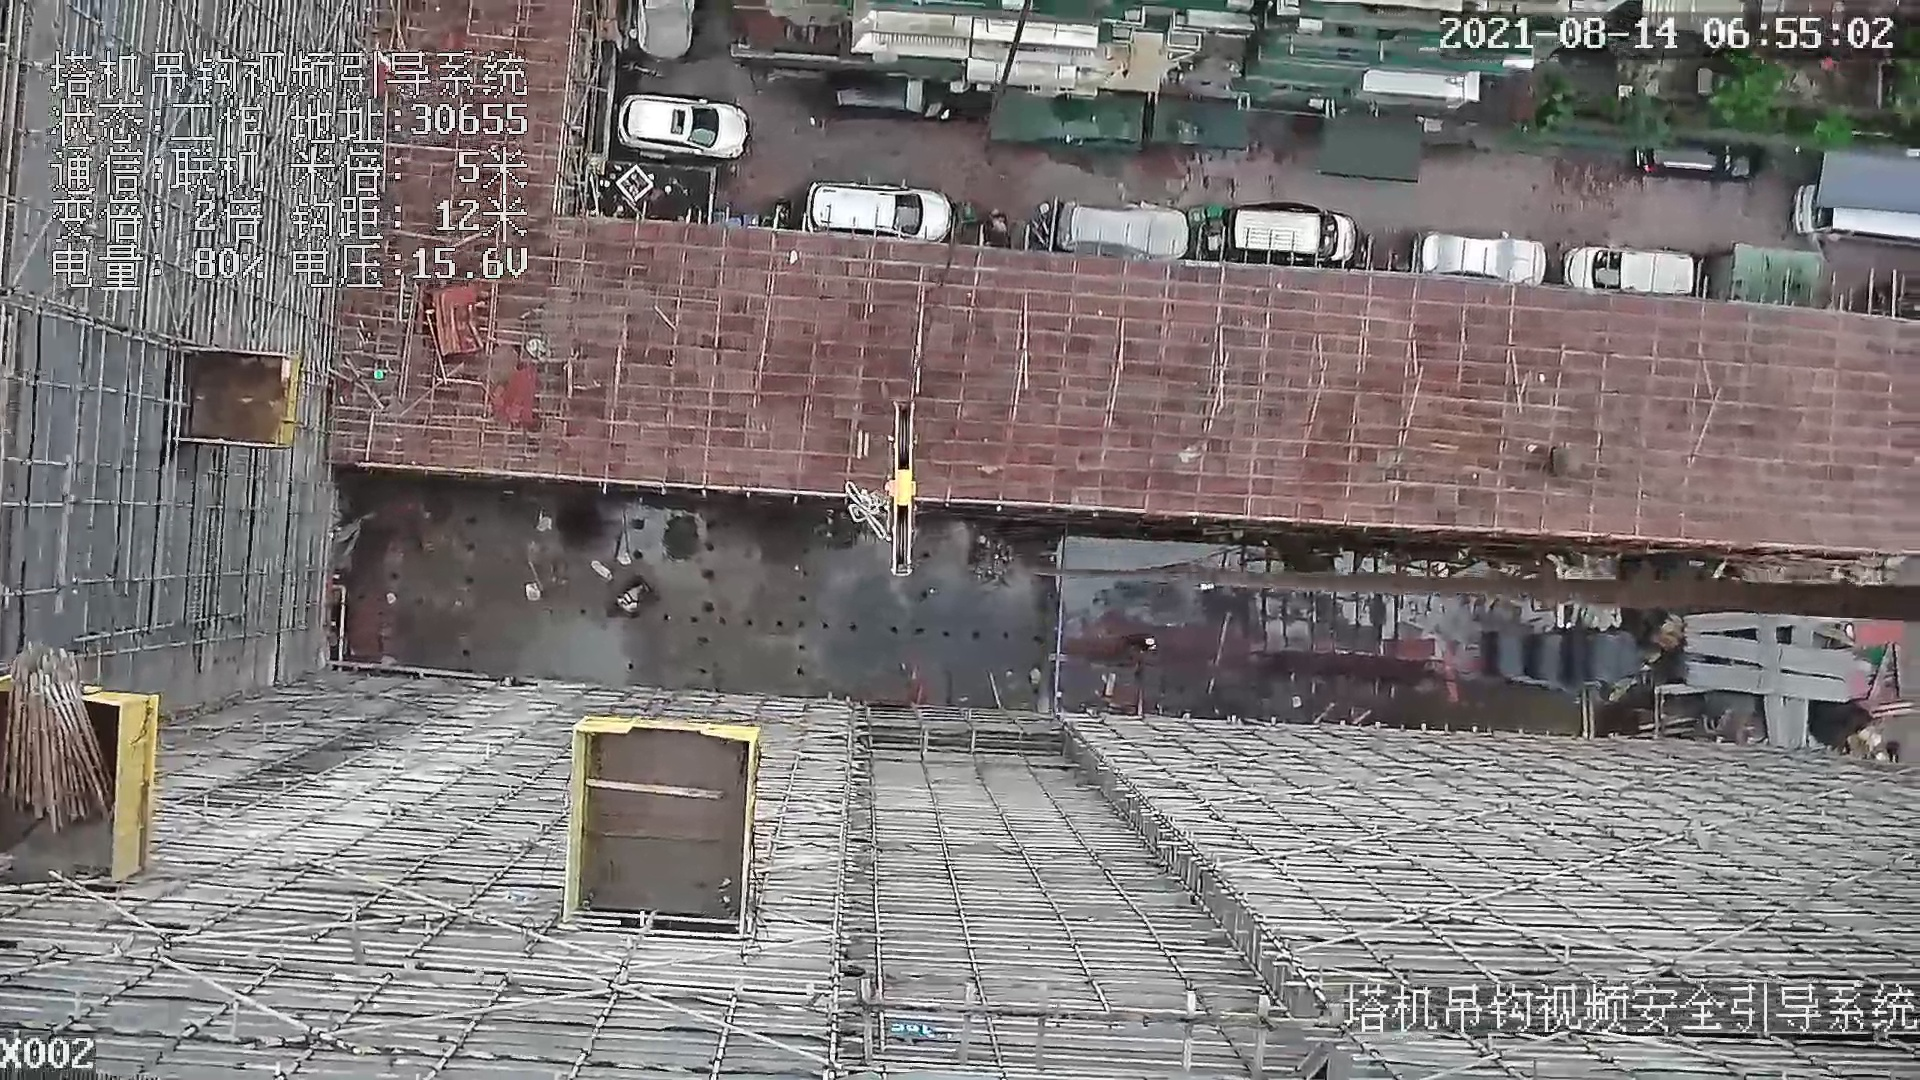hook: (868, 396, 922, 574)
rebar: (1687, 634, 1854, 679), (1688, 663, 1857, 703), (1687, 612, 1822, 632)
scaffold: (1, 632, 113, 833)
